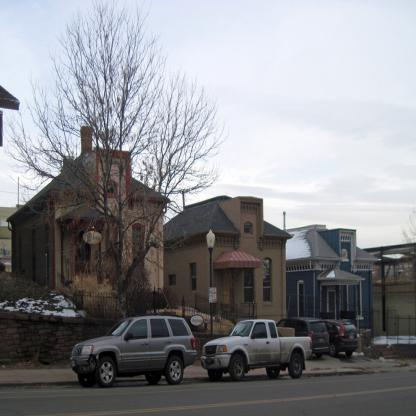Car: (71, 312, 198, 388), (277, 316, 330, 359), (323, 320, 358, 358)
Truck: (198, 322, 315, 388)
